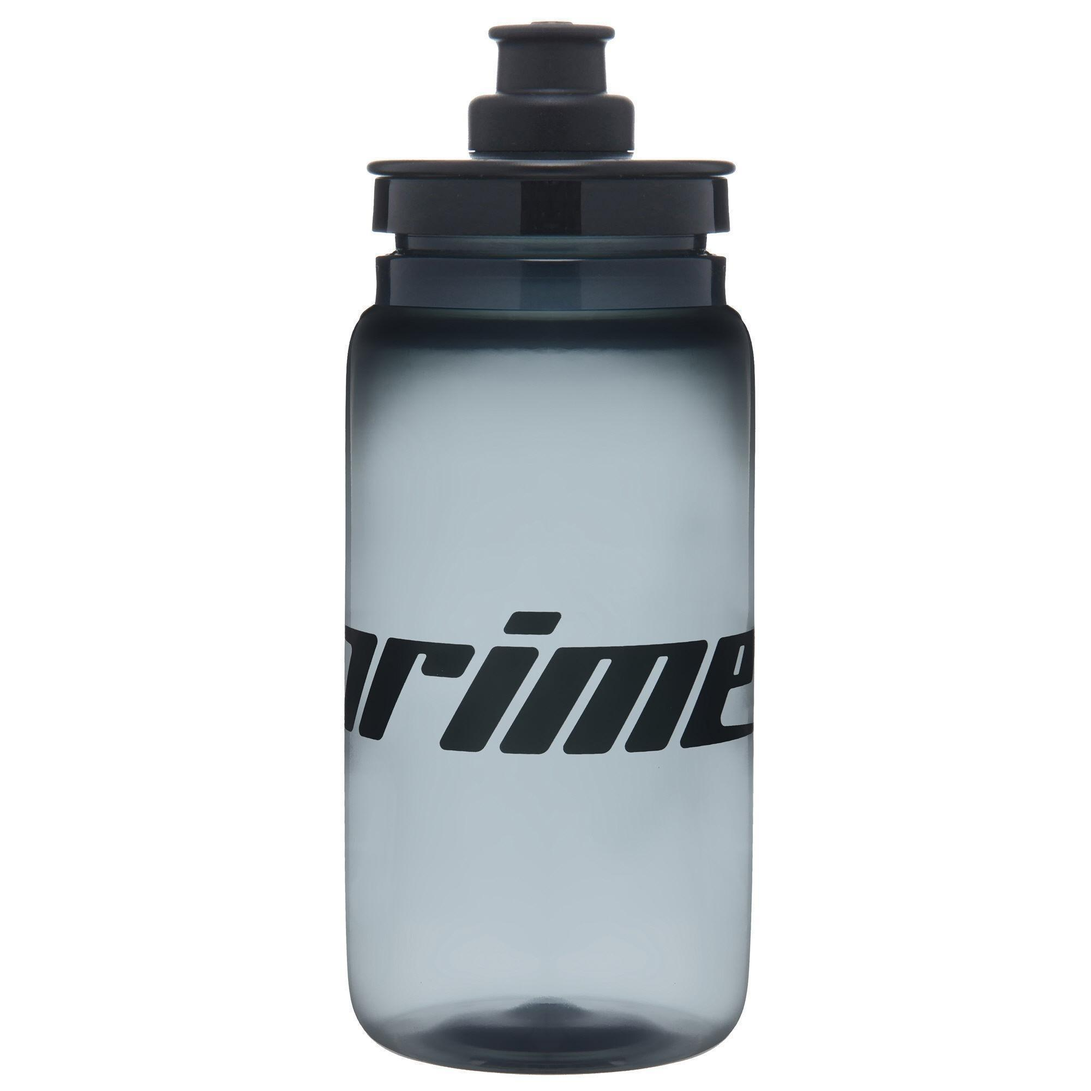gym bottle: (333, 4, 765, 1087)
